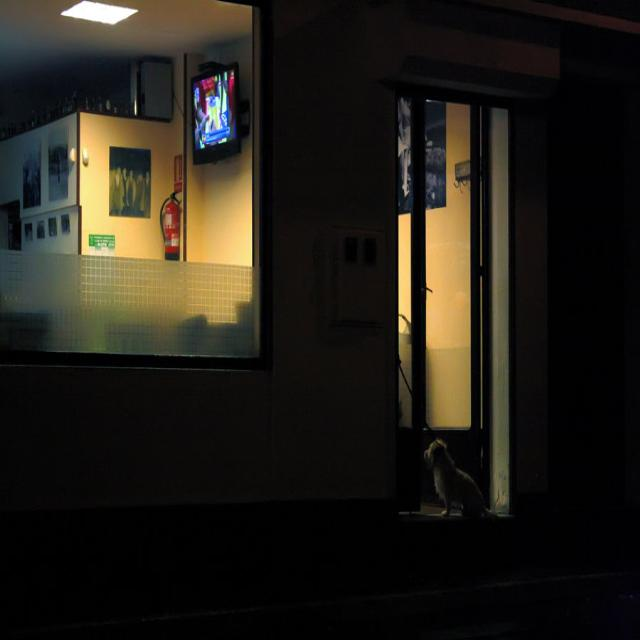Dog: (411, 422, 500, 526)
